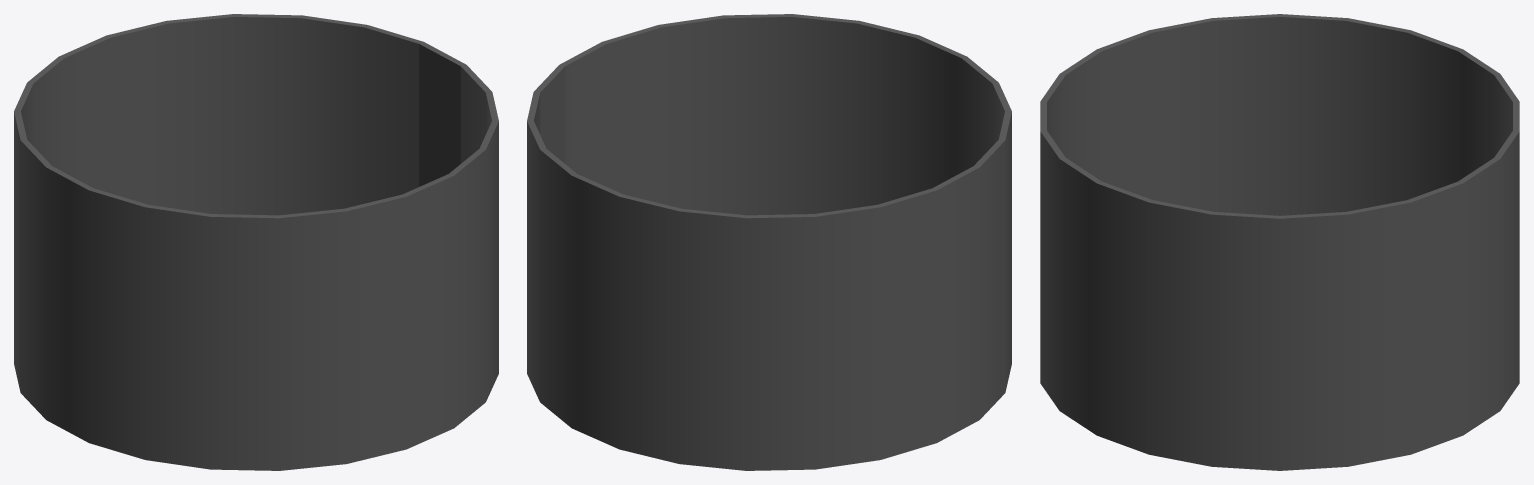
The model's file is instrument box4.FBX.
3 views of the same model, side by side, from view 1: azimuth 30°, elevation 25°; view 2: azimuth 150°, elevation 25°; view 3: azimuth 270°, elevation 25° (orthographic).
Visible parts, largest first — view 1: instrument box4; view 2: instrument box4; view 3: instrument box4.
Boxes of the visible parts, x1,y1,x2,y2 form: instrument box4: [14, 14, 498, 470]; instrument box4: [527, 14, 1011, 470]; instrument box4: [1040, 14, 1519, 470].
Size of the model in its own units: 7.87 by 7.79 by 4.52.
